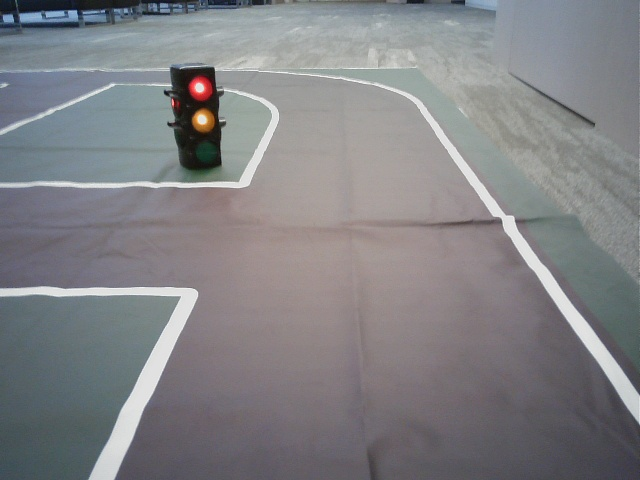red: (181, 71, 217, 167)
